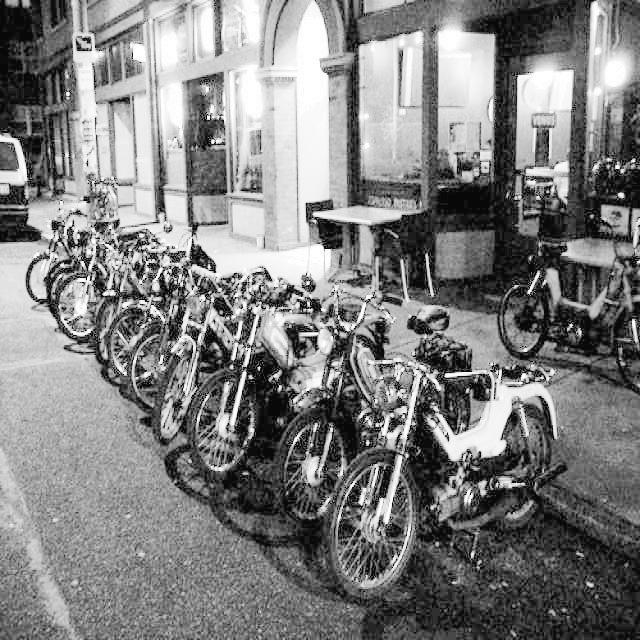Car: (0, 97, 50, 232)
Motorcycle: (201, 288, 493, 552), (283, 305, 540, 581), (342, 320, 579, 600), (157, 268, 408, 469), (134, 281, 291, 456), (510, 215, 640, 380), (113, 278, 259, 405), (31, 204, 145, 303)
